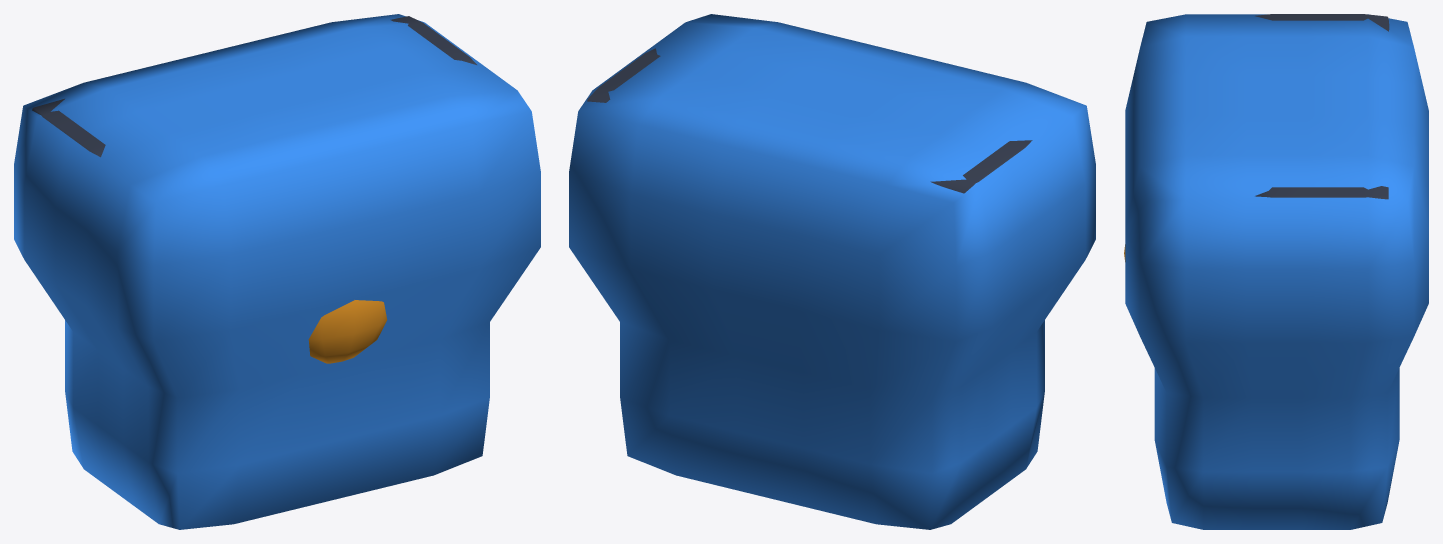
File: torso_exo.obj
3 views of the same model, side by side, from view 1: azimuth 30°, elevation 25°; view 2: azimuth 150°, elevation 25°; view 3: azimuth 270°, elevation 25° (orthographic).
Bounding box in the file's own units: 0.9176 × 0.8 × 0.5976.
